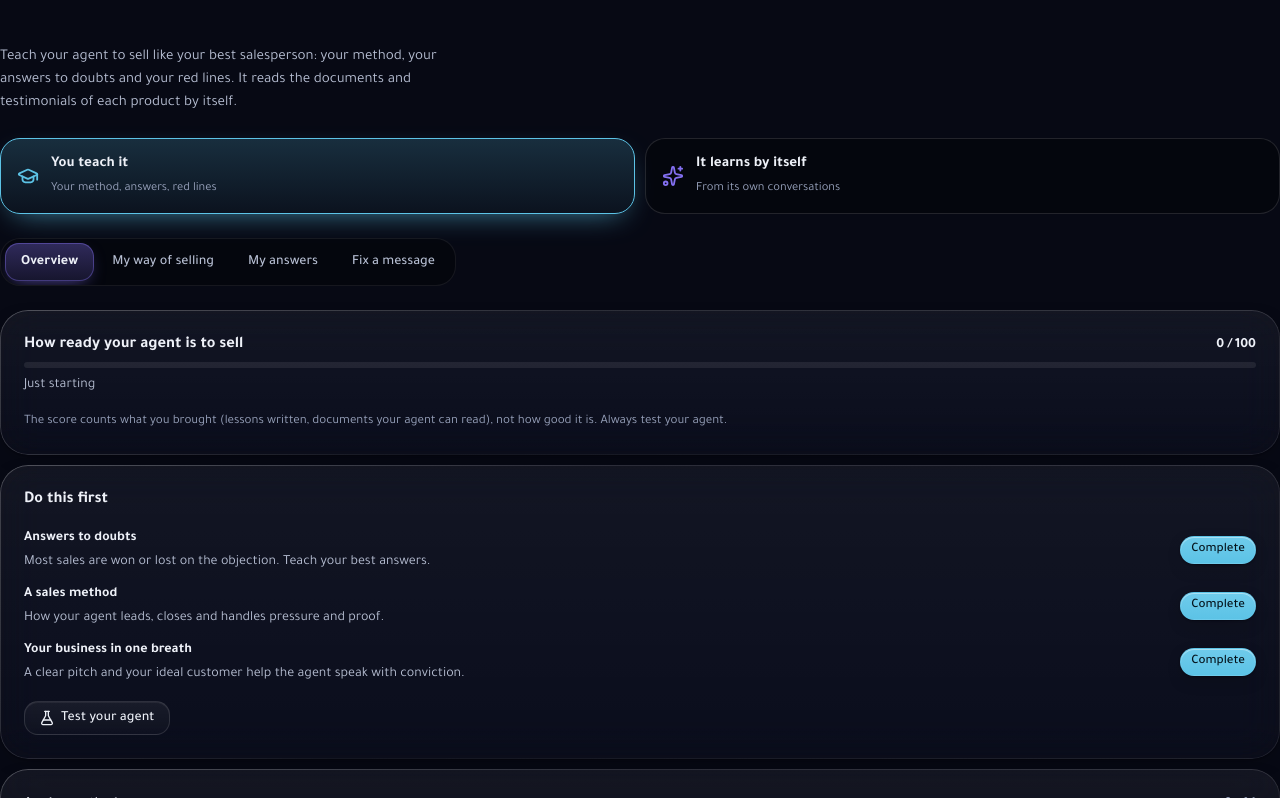
Test: training page: what you teach, and what the agent learns by itself › says how long until it learns
The width and height of the screenshot is (1280, 798).
Expected: the element with test id "training-readiness" is shown, [0,310,1279,455]
Click the tab "It learns by itself From its own conversations". click: {"x": 751, "y": 164}
box: [645,138,1279,214]
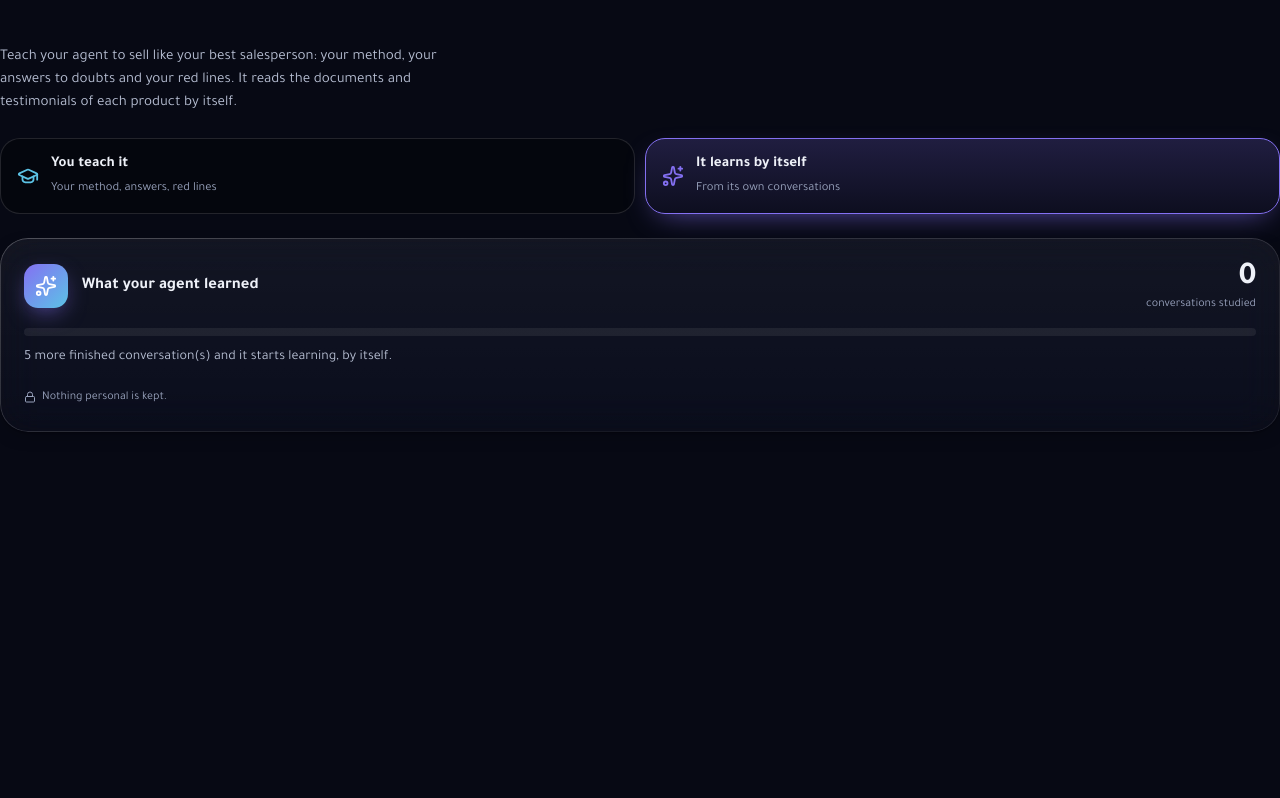
Expected: the text "more finished conversation" is shown, [24,350,392,364]
